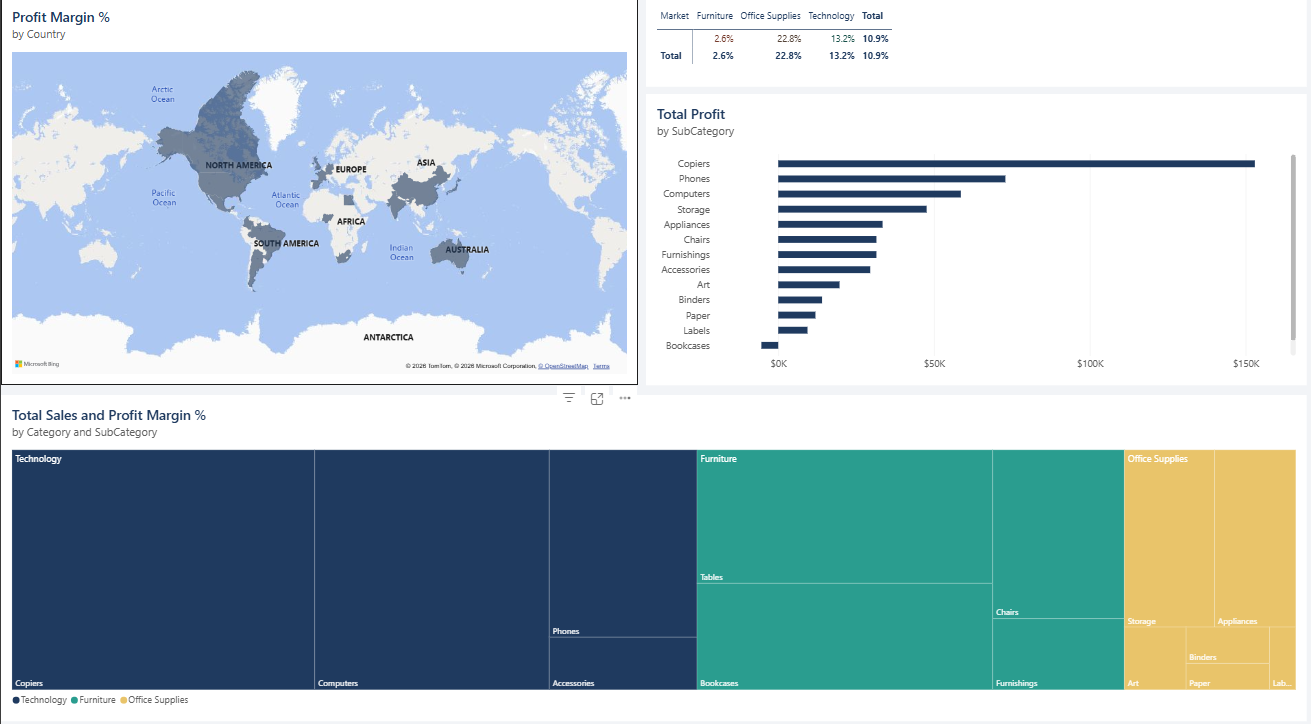

The page's visual inventory and layout, read from the dashboard file:
{"tool":"powerbi","page":{"name":"Where Profit Is Made and Lost","canvas":[1920,1080],"ordinal":1},"visuals":[{"type":"treemap","fields":{"Details":["products.SubCategory"],"Group":["products.Category"],"Values":["customers.Total Sales"]},"box":[0,593.8,1905.4,475.6],"z":0},{"type":"clusteredBarChart","fields":{"Category":["products.SubCategory"],"Y":["customers.Total Profit"]},"box":[941,154.7,964.4,424.6],"z":1000},{"type":"filledMap","fields":{"Category":["customers.Country"]},"box":[0,13.1,929.4,566.1],"z":2000},{"type":"pivotTable","fields":{"Columns":["products.Category"],"Rows":["targets.Market"],"Values":["customers.Profit Margin %"]},"box":[941,13.1,964.4,131.3],"z":3000}]}

Visuals, with their boxes in screenshot pixels (x1, y1, x2, y2), scaled from the page's 1920x1080 canvas onto the 1311x724 screenshot:
treemap - products.SubCategory x products.Category: bbox=[0, 398, 1301, 717]
clusteredBarChart - products.SubCategory x customers.Total Profit: bbox=[643, 104, 1301, 388]
filledMap - customers.Country: bbox=[0, 9, 635, 388]
pivotTable - products.Category x targets.Market: bbox=[643, 9, 1301, 97]
